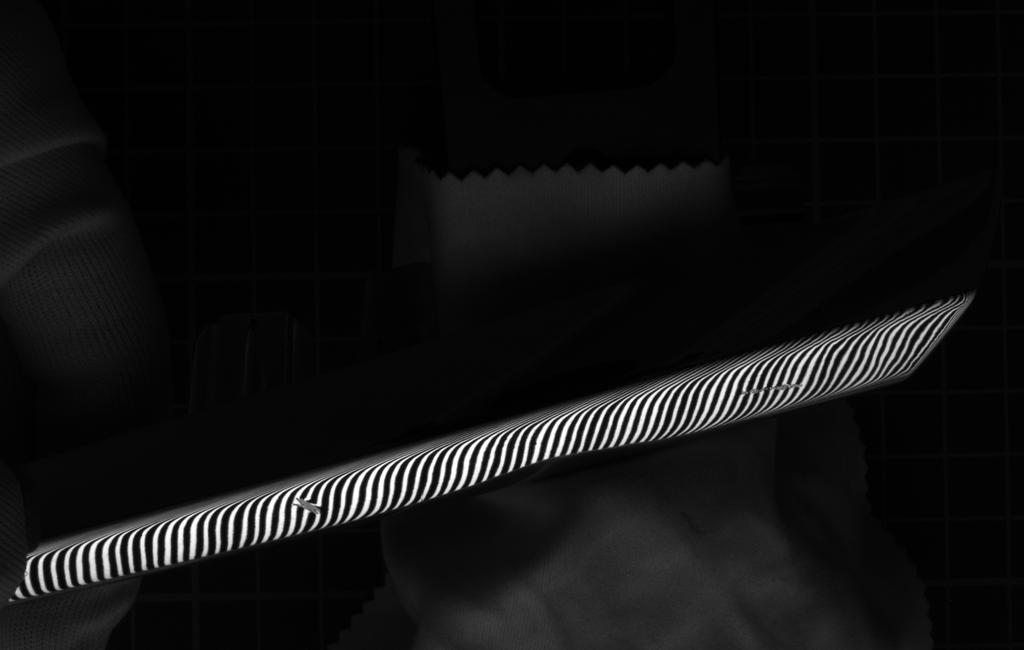Scratch: (725, 374, 816, 403), (287, 493, 334, 521)
